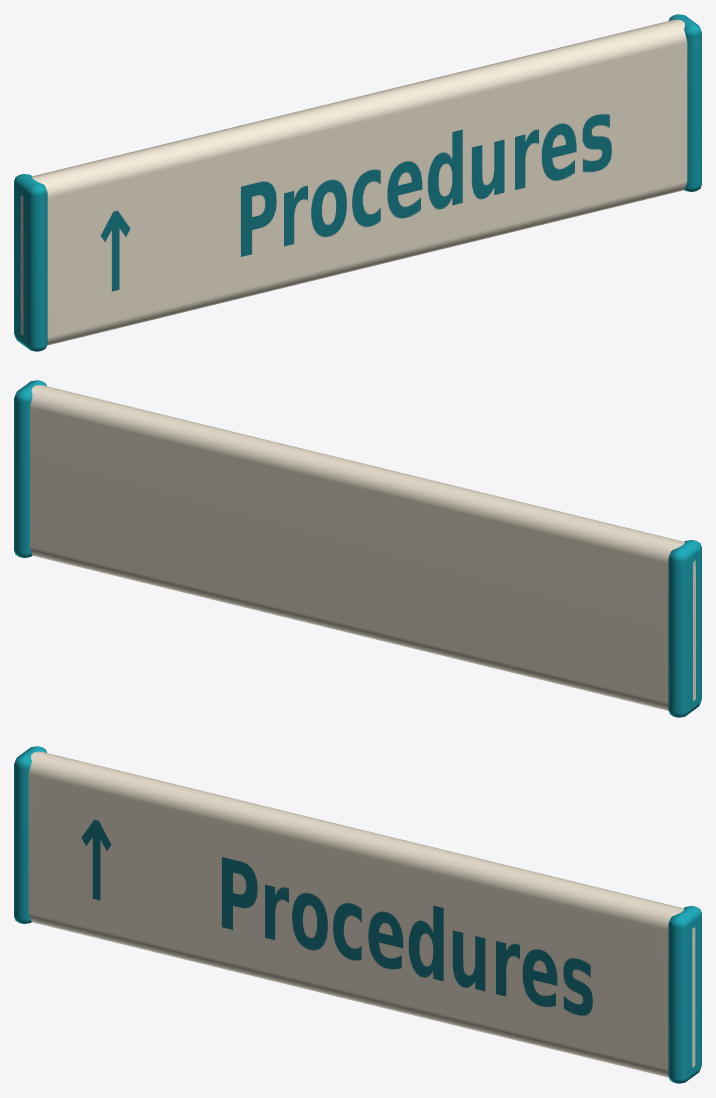
Rendered from Entrance_Sign_Procedures.glb.
The picture shows the model from 3 angles, top to bottom: view 1: azimuth 30°, elevation 25°; view 2: azimuth 150°, elevation 25°; view 3: azimuth 330°, elevation 25°; orthographic projection.
Parts seen in each view (by area): view 1: Entrance_Sign_Procedures__Entrance_Opaque_Graphics_Atlas, Entrance_Sign_Procedures__CRNA_Shared_Matte_Atlas; view 2: Entrance_Sign_Procedures__CRNA_Shared_Matte_Atlas; view 3: Entrance_Sign_Procedures__Entrance_Opaque_Graphics_Atlas, Entrance_Sign_Procedures__CRNA_Shared_Matte_Atlas.
Part boxes in pixels (<box>): Entrance_Sign_Procedures__Entrance_Opaque_Graphics_Atlas: <box>55,46,679,333</box>; Entrance_Sign_Procedures__CRNA_Shared_Matte_Atlas: <box>14,14,701,351</box>; Entrance_Sign_Procedures__CRNA_Shared_Matte_Atlas: <box>14,380,701,717</box>; Entrance_Sign_Procedures__Entrance_Opaque_Graphics_Atlas: <box>36,778,660,1065</box>; Entrance_Sign_Procedures__CRNA_Shared_Matte_Atlas: <box>14,746,701,1083</box>.
Size of the model in its own units: 1.12 by 0.265 by 0.064.
Materials: 2 (2 with a texture image).
